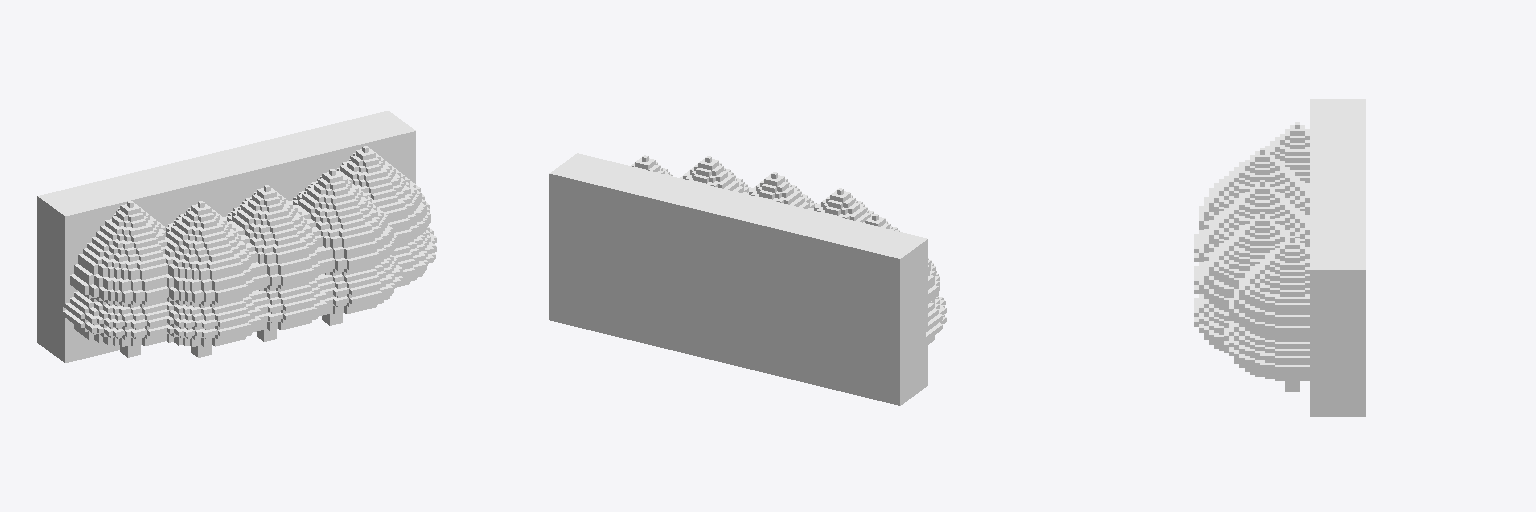
Rendered from TreeLine.obj.
3 views of the same model, side by side, from view 1: azimuth 30°, elevation 25°; view 2: azimuth 150°, elevation 25°; view 3: azimuth 270°, elevation 25° (orthographic).
Parts seen in each view (by area): view 1: TreeLine; view 2: TreeLine; view 3: TreeLine.
Part boxes in pixels (bbox=[...]): TreeLine: bbox=[37, 111, 436, 362]; TreeLine: bbox=[549, 153, 946, 405]; TreeLine: bbox=[1194, 99, 1365, 416].
Size of the model in its own units: 80 by 33 by 34.